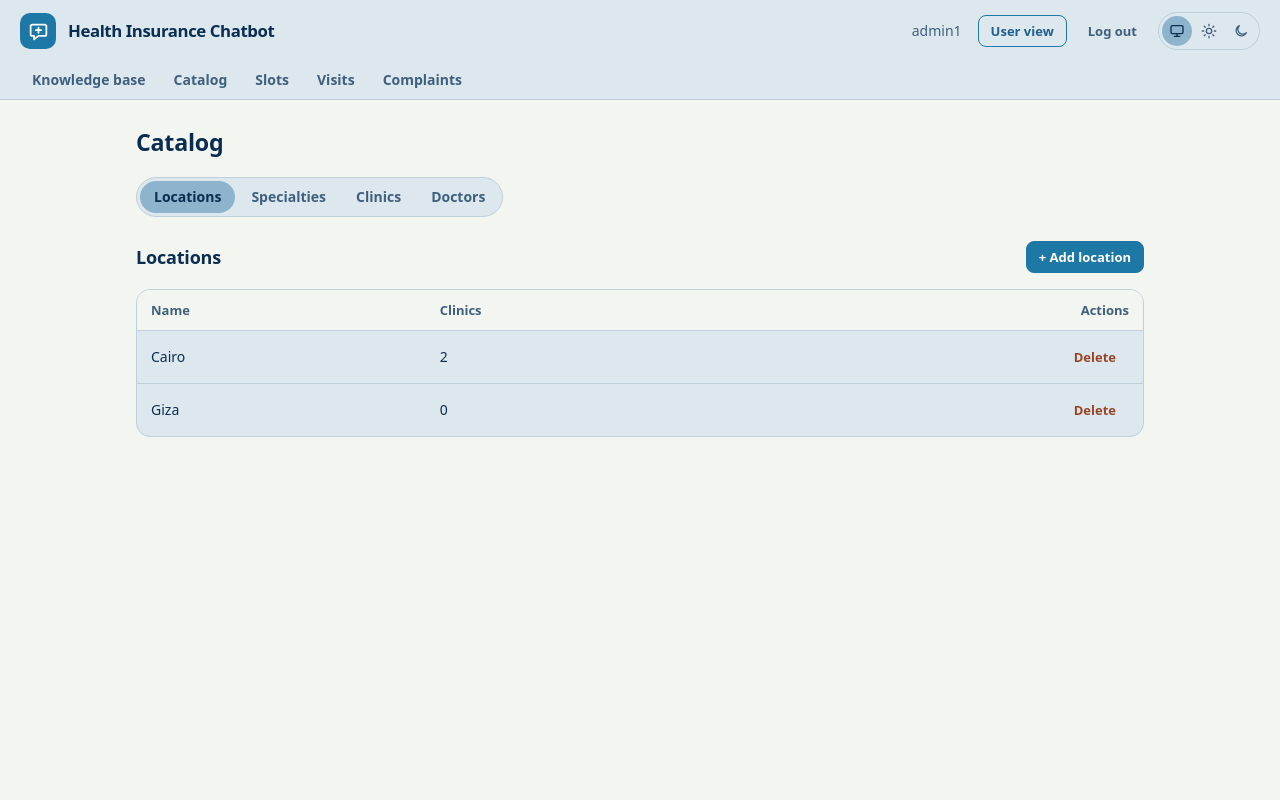
Test: AdminCatalogPage › A5: when the preview fails the dialog still opens with a general warning
Click the button with test id "catalog-delete" in the row of "Giza". click: click(1095, 410)
box: [1061,394,1129,426]
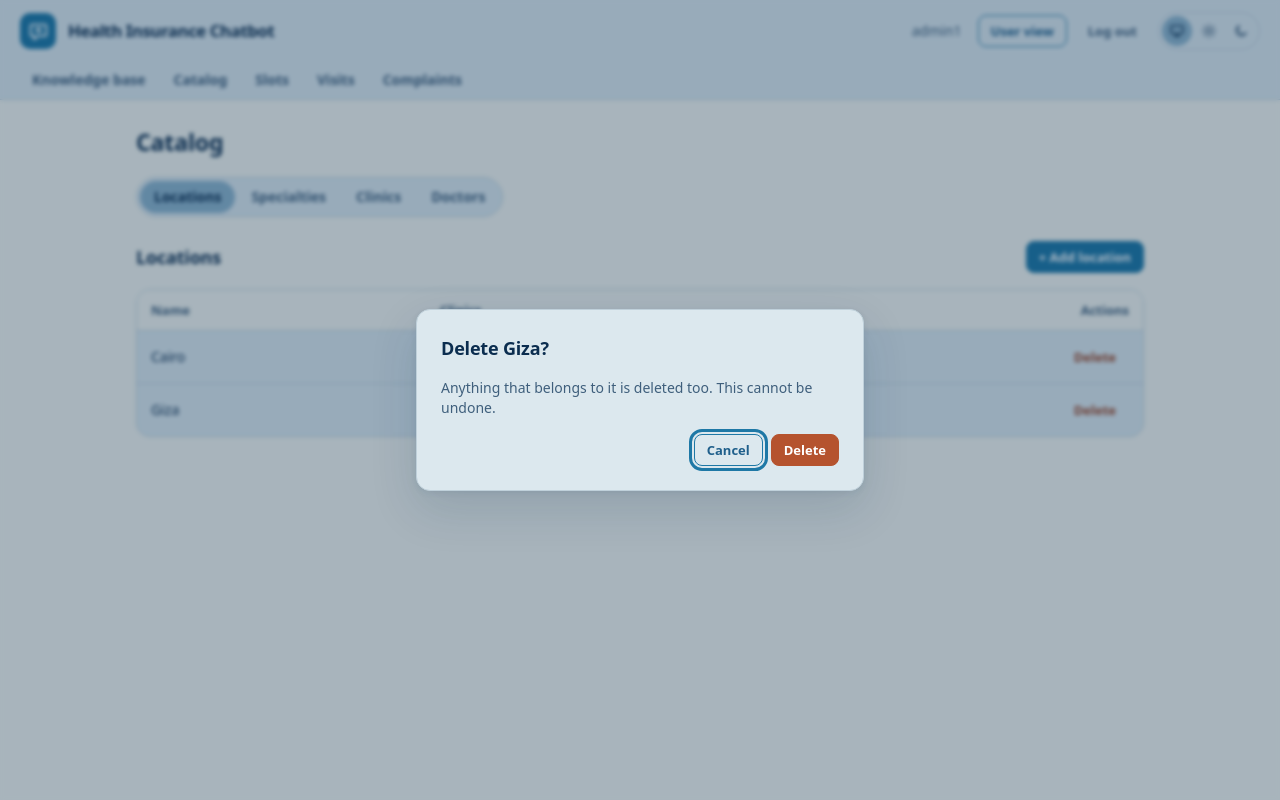
Expected: the dialog shows "Anything that belongs to it is deleted too.", [441,378,812,417]
